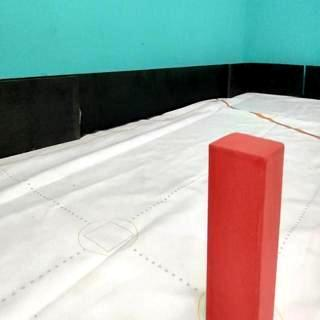redbox: (204, 131, 285, 320)
